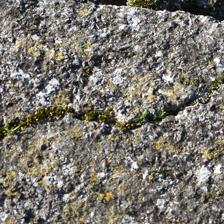Crack: (7, 89, 203, 146)
